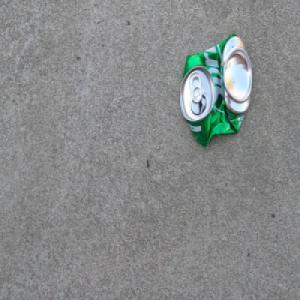SodaCan: (178, 31, 253, 149)
